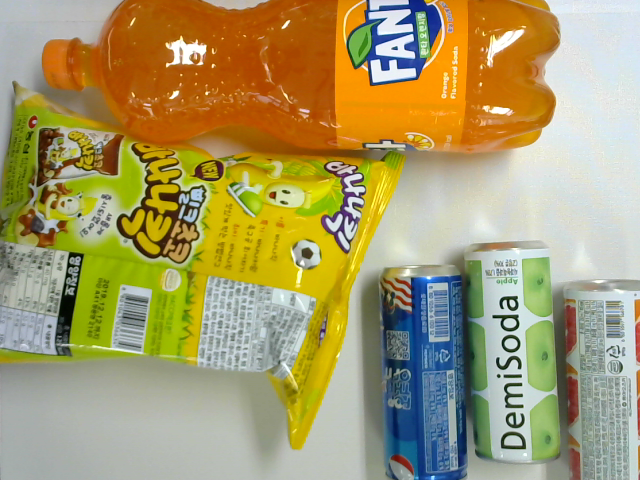Banana_Kick: (1, 80, 407, 450)
Demisoda_Apple_Can_250ml: (462, 241, 562, 463)
Demisoda_Grapefruit_Can_250ml: (561, 280, 638, 480)
Hwanta_Orange_1.5L: (42, 1, 562, 152)
Pepsi_Cola_Can_250ml: (380, 262, 470, 480)
